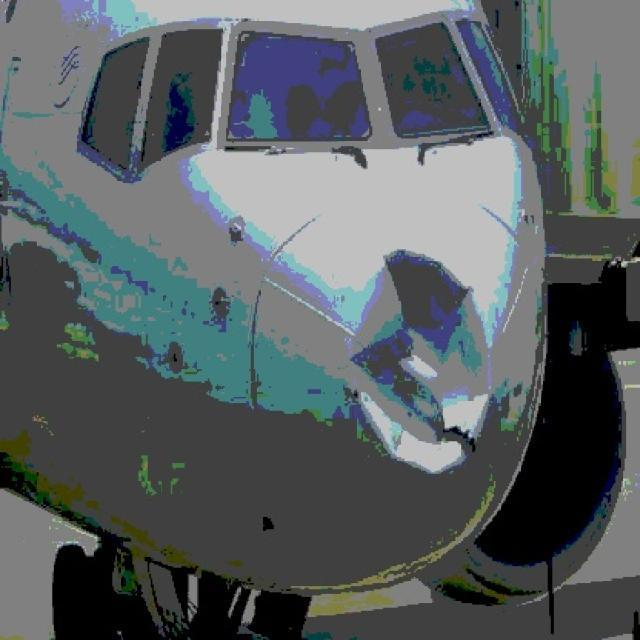dent: (335, 245, 503, 484)
